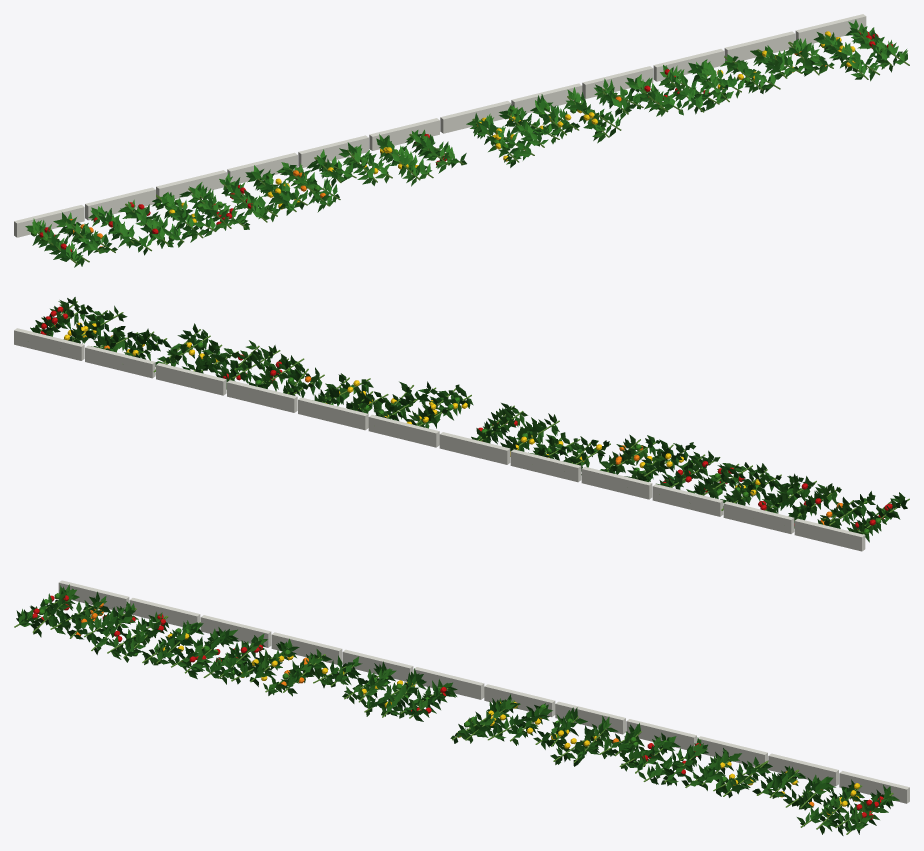
The model's file is row23.obj.
3 renders of one model, top to bottom at view 1: azimuth 30°, elevation 25°; view 2: azimuth 150°, elevation 25°; view 3: azimuth 330°, elevation 25°, orthographic.
Visible parts, largest first — view 1: row23; view 2: row23; view 3: row23.
Boxes of the visible parts, left/top/right/bottom form: row23: left=14, top=14, right=909, bottom=267; row23: left=14, top=297, right=909, bottom=551; row23: left=14, top=580, right=909, bottom=835.
Bounding box in the file's own units: 12.46 × 0.4433 × 1.47.
